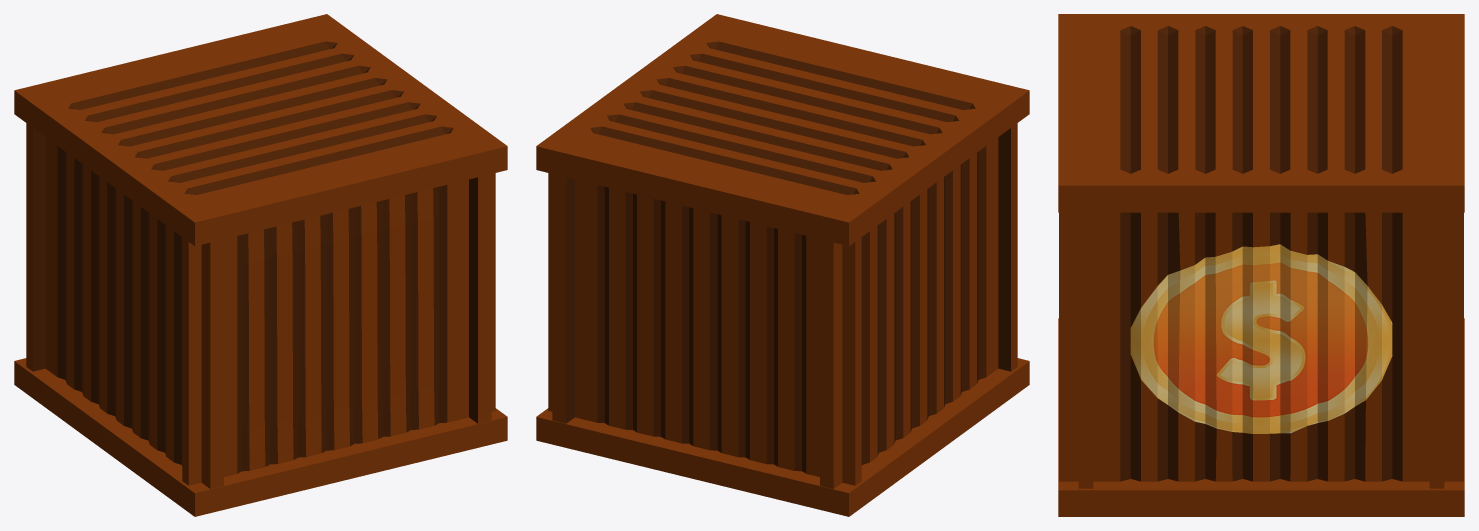
Rendered from BoxDollarSign.fbx.
The picture shows the model from 3 angles, left to right: view 1: azimuth 30°, elevation 25°; view 2: azimuth 150°, elevation 25°; view 3: azimuth 270°, elevation 25°; orthographic projection. The views are drawn at different scales.
Parts seen in each view (by area): view 1: Box; view 2: Box; view 3: Box.
Boxes of the visible parts, <box> form: Box: <box>14,14,507,516</box>; Box: <box>536,14,1029,516</box>; Box: <box>1058,14,1464,516</box>.
Size of the model in its own units: 223 by 200 by 223.
